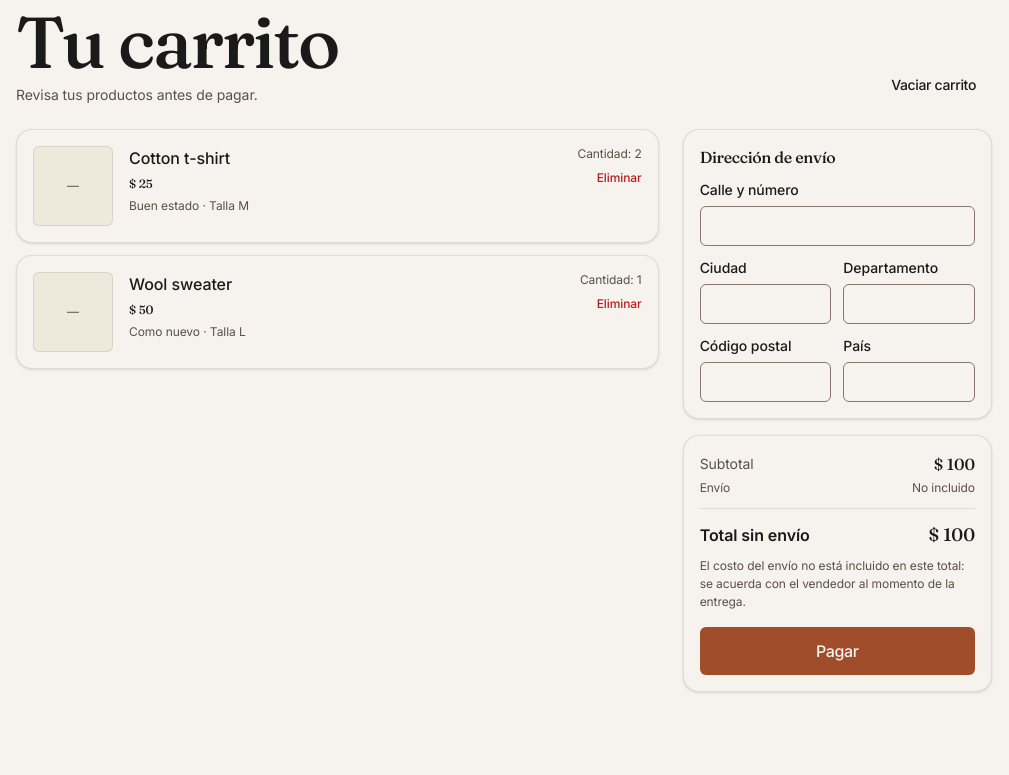
Test case: CartPage › bloquea el pago y marca los campos si la dirección está en blanco
The image size is (1009, 775).
Check: the link "Cotton t-shirt" is shown, box [129,148,230,168]
Click the button "Pagar" at (837, 651), box [700,627,975,675]
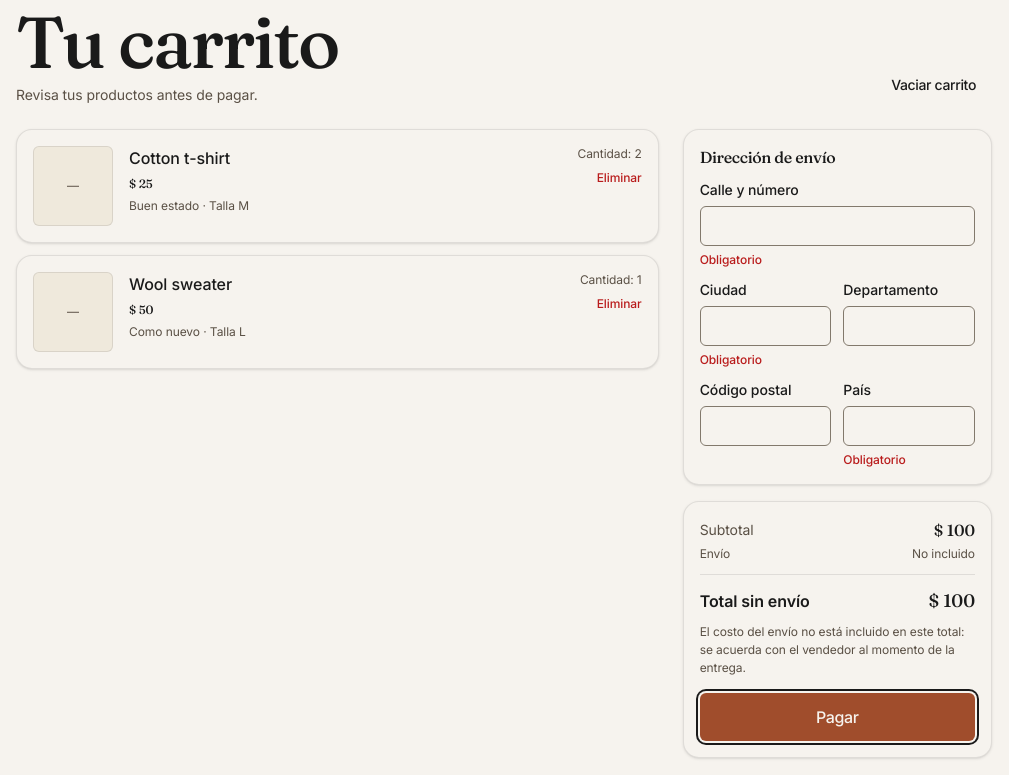
Check: the text "Obligatorio" below "Calle y número" is shown, box [700,252,762,267]
